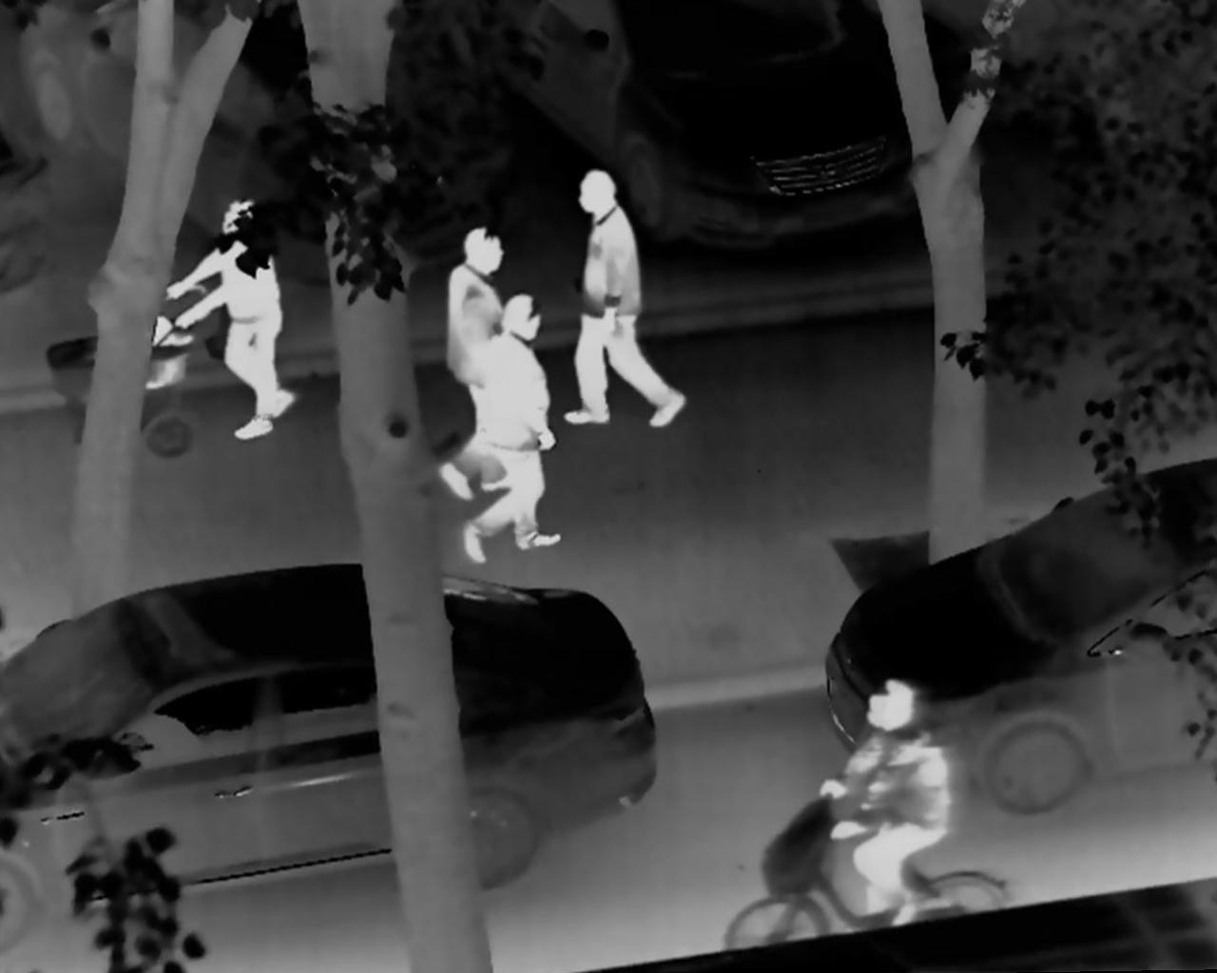person: (820, 666, 955, 933), (559, 168, 688, 431), (163, 193, 291, 448), (458, 286, 562, 573), (435, 228, 538, 497)
